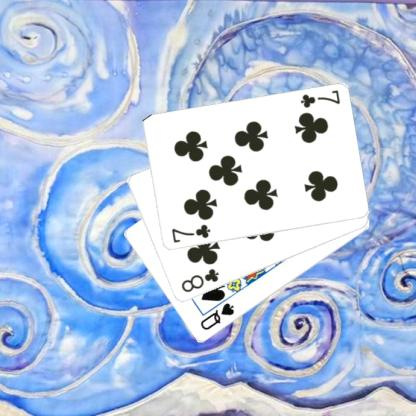7C: (168, 222, 212, 245), (298, 87, 341, 110)
8C: (178, 266, 220, 294)
QS: (197, 300, 236, 332)
